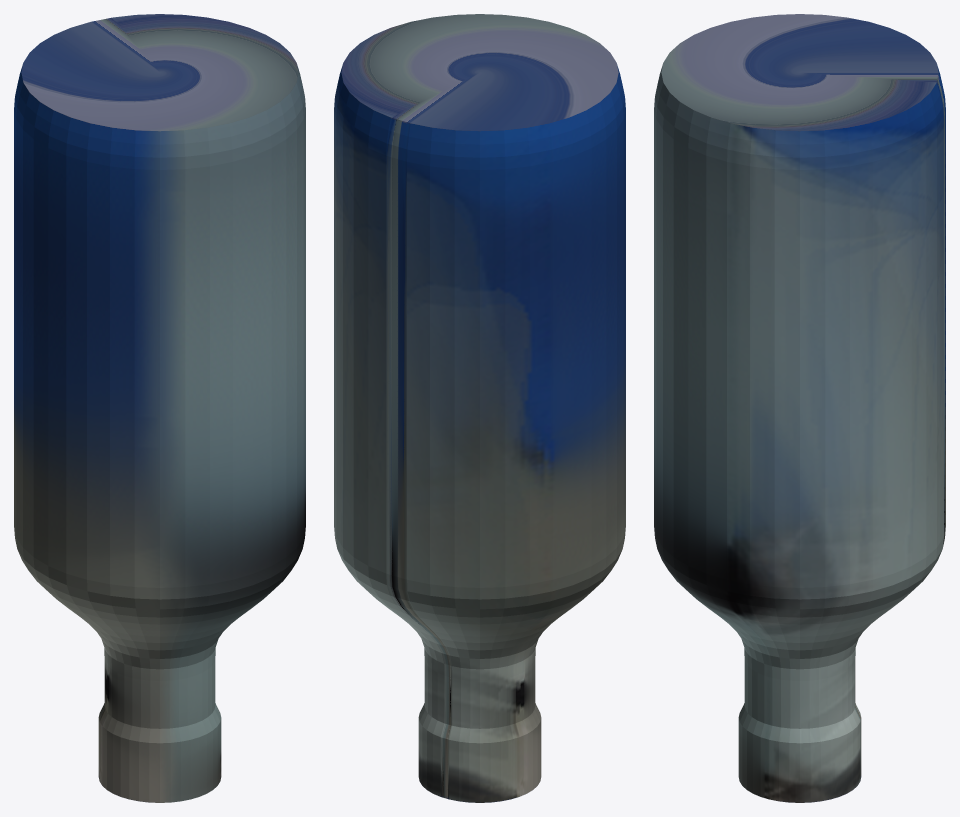
Rendered from real_world_validation_textured.obj.
3 views of the same model, side by side, from view 1: azimuth 30°, elevation 25°; view 2: azimuth 150°, elevation 25°; view 3: azimuth 270°, elevation 25° (orthographic).
Size of the model in its own units: 2.59 by 6.9 by 2.59.
Materials: 1 (1 with a texture image).
